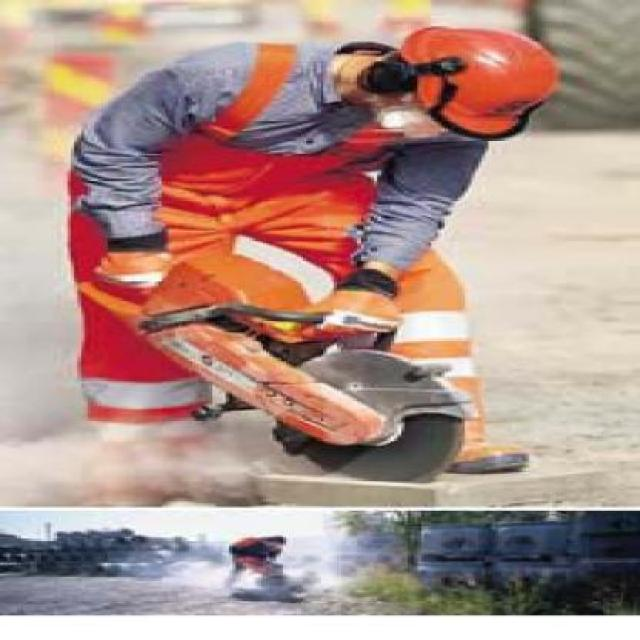Chainsaw: (78, 254, 464, 483)
